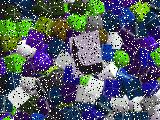Right: (69, 30, 103, 78)
